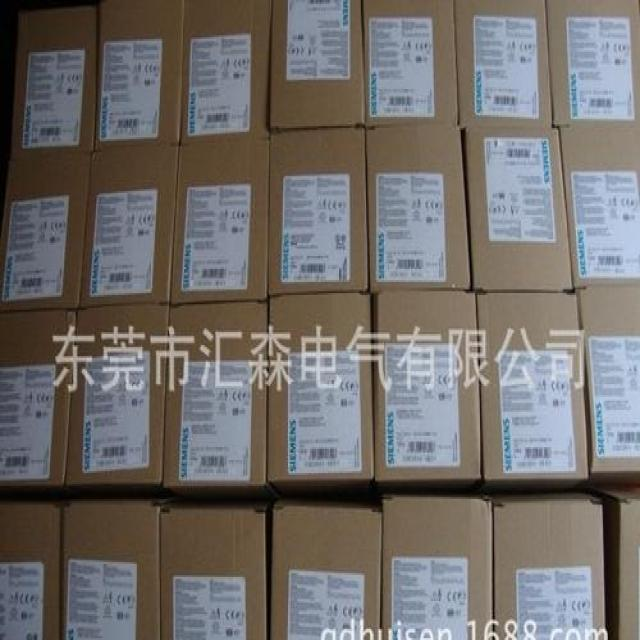box: (370, 289, 483, 508), (476, 291, 589, 497), (269, 293, 375, 510), (164, 299, 269, 506), (67, 306, 169, 499), (462, 128, 575, 289), (366, 128, 474, 295), (168, 130, 269, 304), (269, 126, 369, 295), (380, 492, 494, 640), (79, 143, 179, 306), (493, 492, 605, 636), (270, 501, 383, 638), (61, 497, 172, 636), (159, 503, 269, 638), (1, 147, 92, 310), (1, 308, 78, 499), (93, 2, 187, 147), (13, 4, 102, 156), (559, 124, 639, 291), (179, 2, 271, 143), (452, 0, 552, 128), (364, 0, 462, 130), (579, 286, 640, 486), (269, 2, 365, 128), (547, 2, 639, 126), (0, 497, 70, 638), (588, 486, 639, 638)
